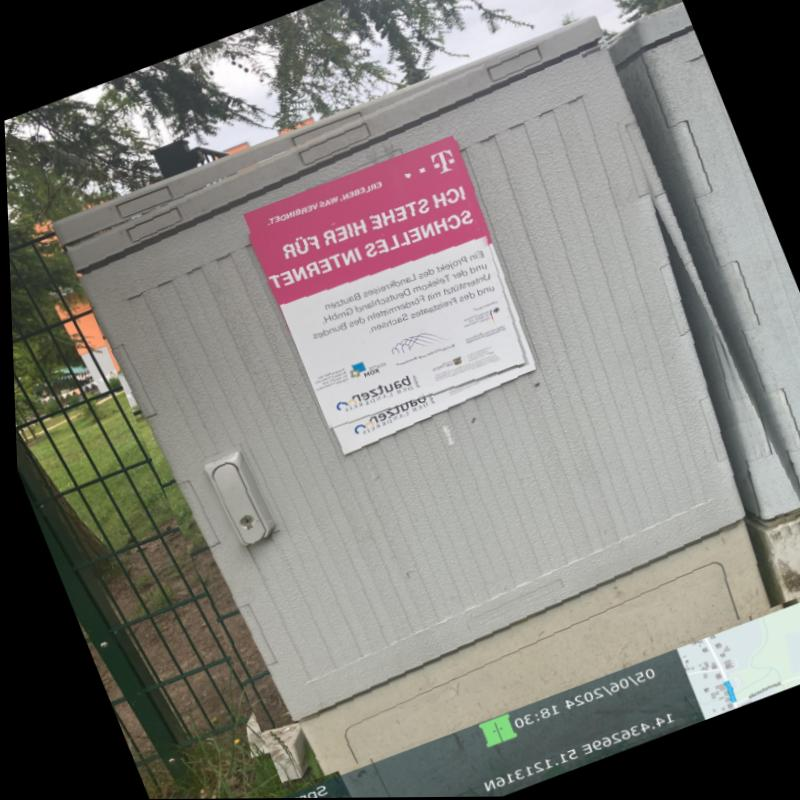NT-Gehause: (64, 15, 764, 776), (611, 9, 800, 521)
Steaker: (241, 136, 529, 432)
